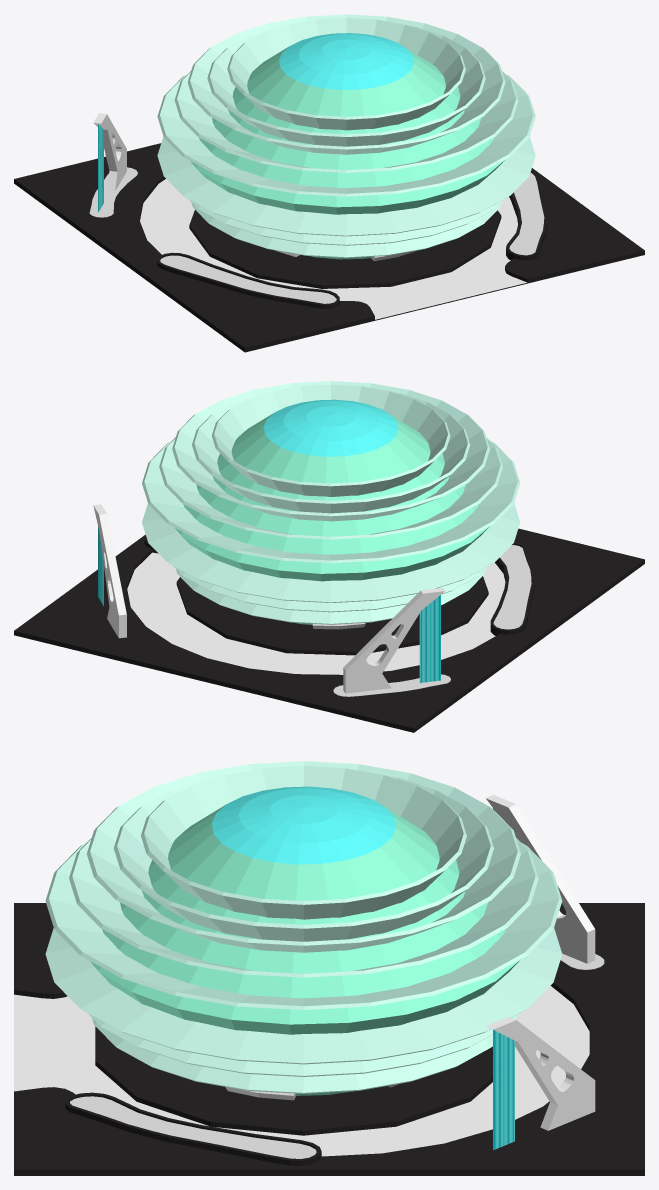
File: D9_Milestone.fbx
3 views of the same model, one above another, from view 1: azimuth 30°, elevation 25°; view 2: azimuth 150°, elevation 25°; view 3: azimuth 270°, elevation 25° (orthographic). The views are drawn at different scales.
Parts seen in each view (by area): view 1: Cube.029; view 2: Cube.029; view 3: Cube.029.
Part boxes in pixels (x1,y1,x2,y2): Cube.029: (14, 14, 644, 352); Cube.029: (14, 381, 644, 732); Cube.029: (14, 761, 644, 1175).
Bounding box in the file's own units: 13055 × 5484 × 13055.
5 materials, 3 textured.
